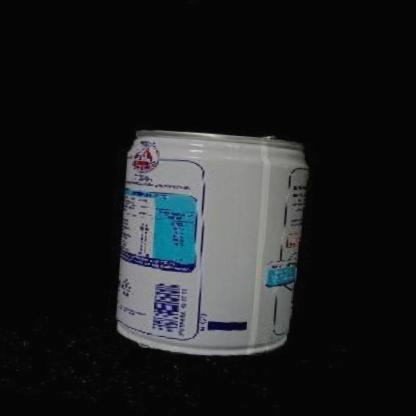alumunium_can: (112, 126, 311, 364)
